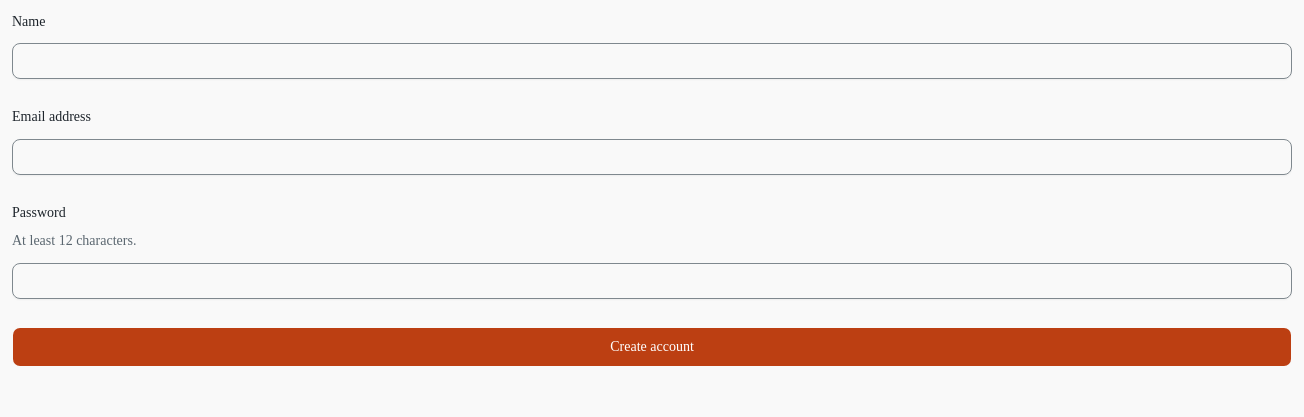
Scenario: SignUpForm › does not make the visitor type everything again after a rejection
Type "Ada" into the field labelled "Name".
click(652, 61); type("Ada")  # box [12, 43, 1292, 79]
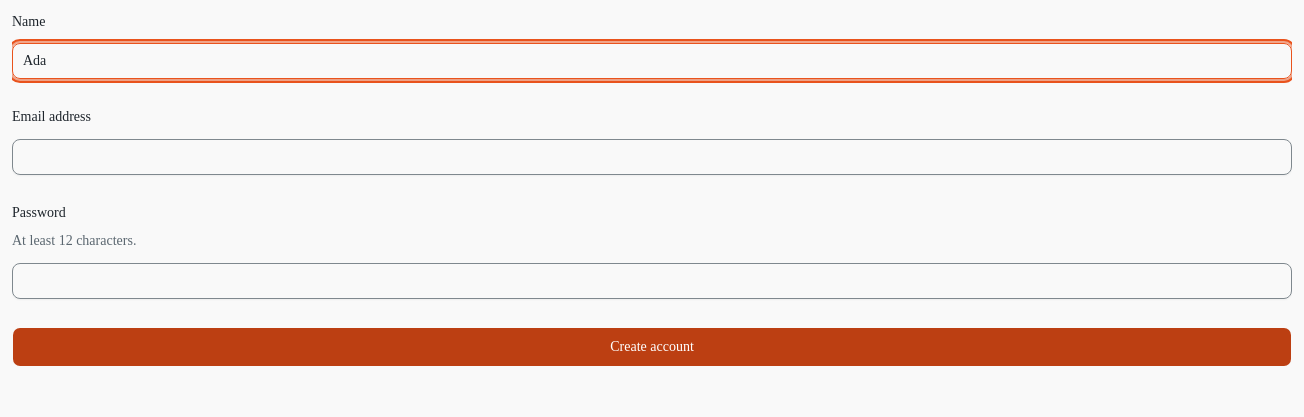
Type "ada@example.com" into the field labelled "Email address".
click(652, 156); type("ada@example.com")  # box [12, 138, 1292, 174]
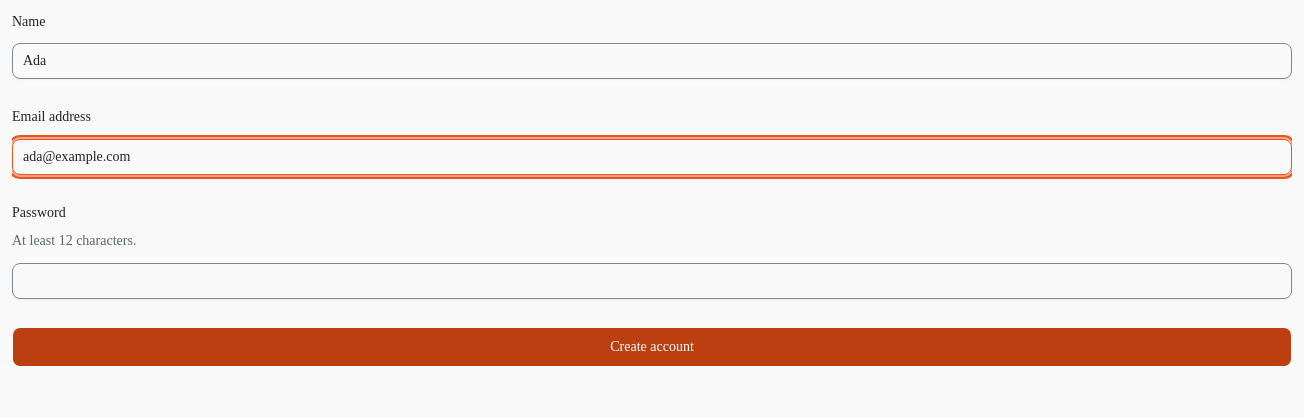
Type "correct horse battery" into the password field labelled "Password".
click(652, 281); type("correct horse battery")  # box [12, 263, 1292, 299]
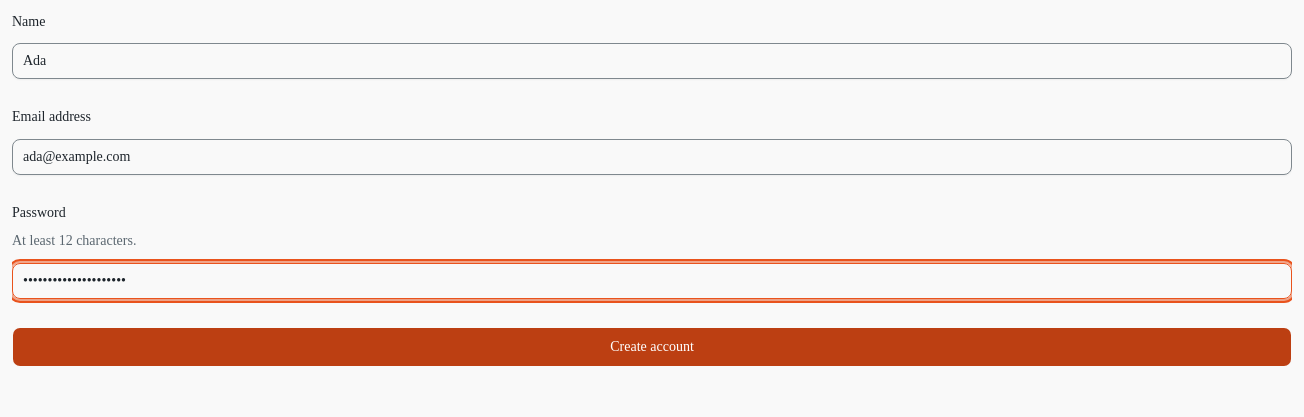
Click the button "Create account".
click(652, 347)  # box [12, 327, 1292, 367]
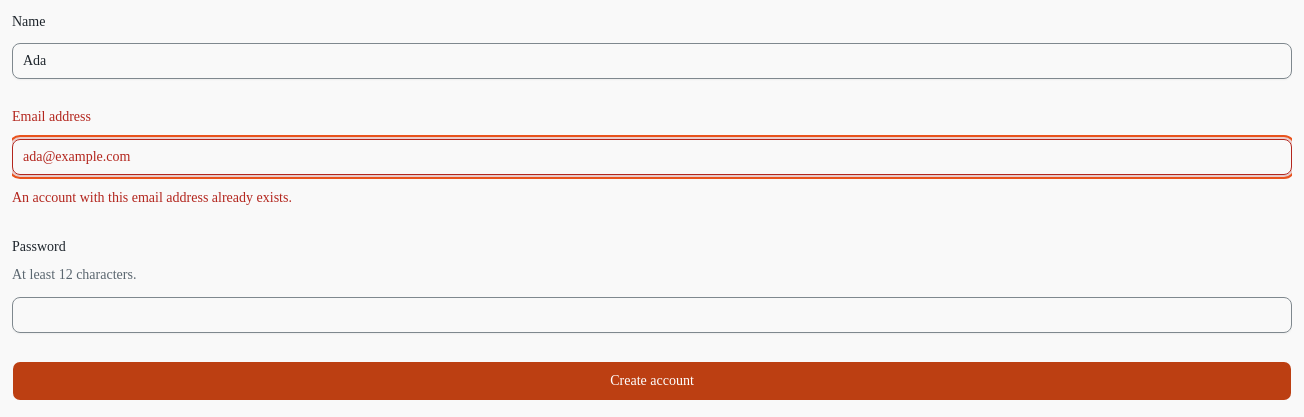
Expected: the field labelled "Name" holds "Ada", [12, 43, 1292, 79]
Expected: the field labelled "Email address" holds "ada@example.com", [12, 138, 1292, 174]
Expected: the password field labelled "Password" is empty, [12, 297, 1292, 333]
